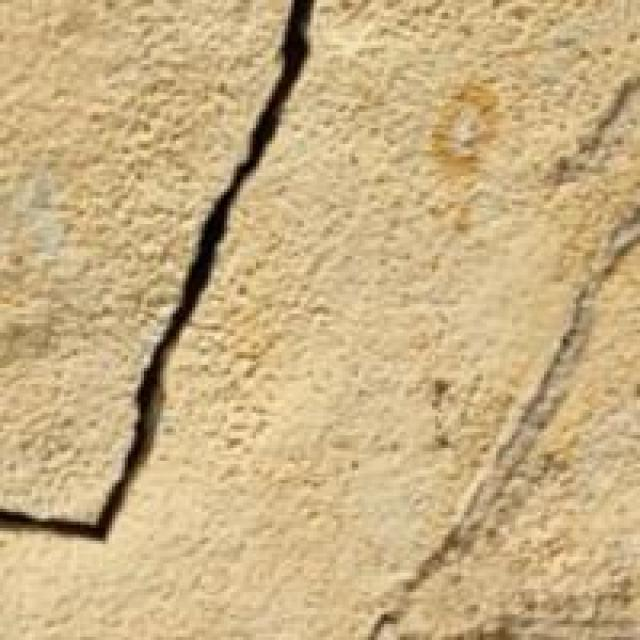Crack: (7, 0, 310, 557)
